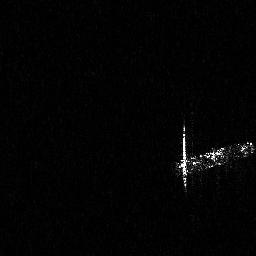ship: (172, 119, 255, 196)
